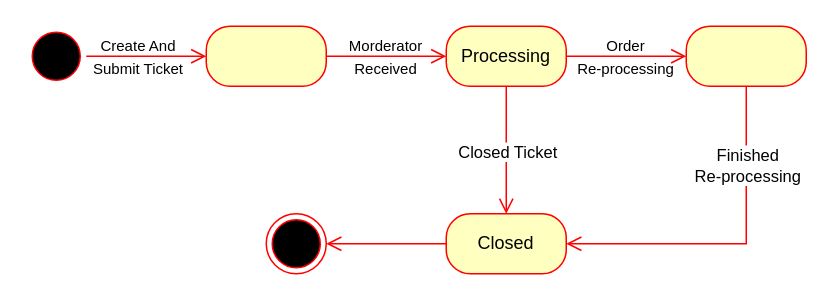
Image size: 833x300. Some labels were removed from this diagram. Each missing label, with the box of its shape:
Opening: (205, 25, 326, 86)
Resolving: (685, 25, 806, 86)
